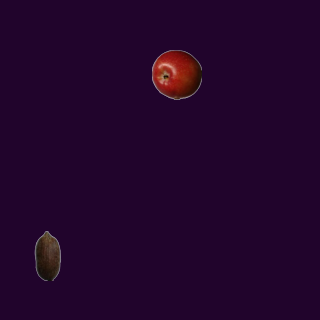Apple Braeburn: (151, 49, 201, 99)
Nut Pecan: (22, 230, 72, 280)
